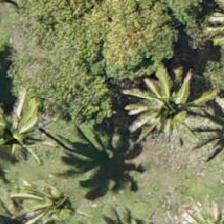coconut_tree: (134, 64, 223, 154), (0, 76, 58, 166), (2, 168, 92, 223)
